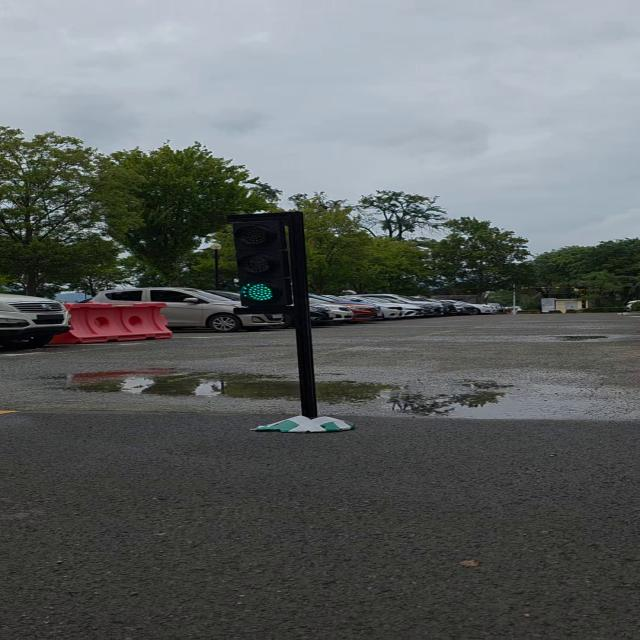green: (232, 213, 304, 315)
